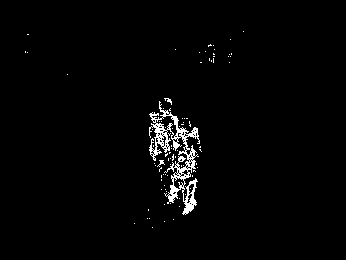person: (167, 116, 202, 214), (146, 96, 177, 199)
